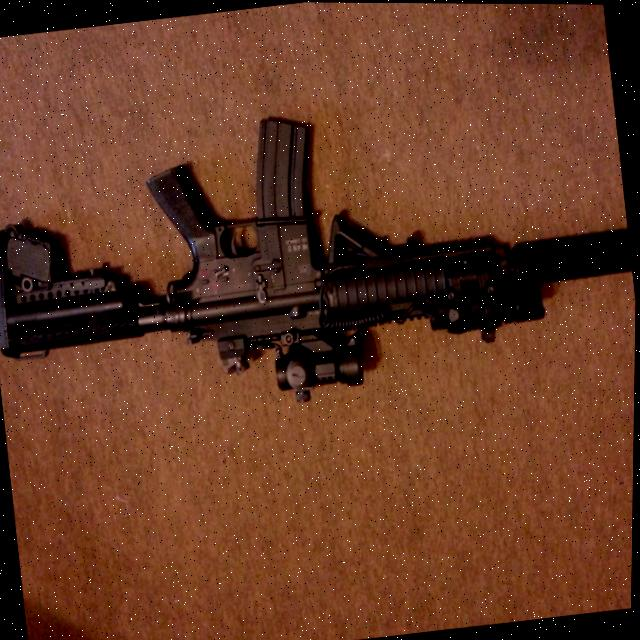firearm: (0, 68, 639, 442)
